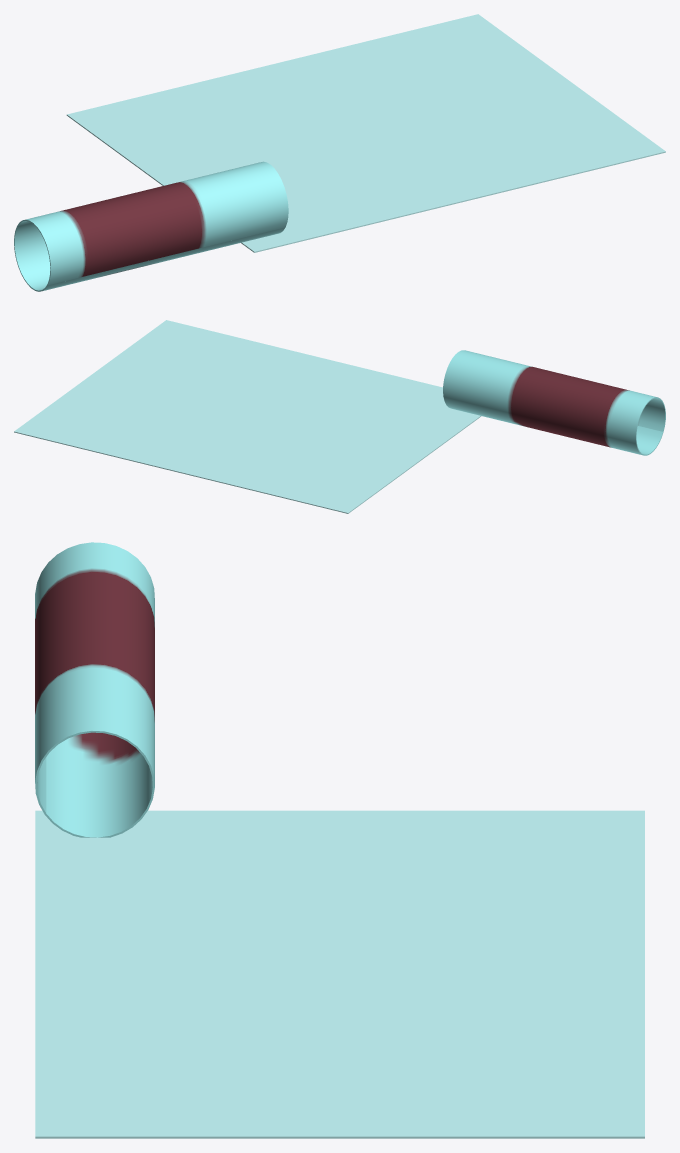
3 renders of one model, top to bottom at view 1: azimuth 30°, elevation 25°; view 2: azimuth 150°, elevation 25°; view 3: azimuth 270°, elevation 25°, orthographic. The views are drawn at different scales.
Parts seen in each view (by area): view 1: Blend, Blend1; view 2: Blend, Blend1; view 3: Blend, Blend1.
Boxes of the visible parts, bbox=[...] form: Blend: bbox=[66, 14, 665, 252]; Blend1: bbox=[14, 161, 288, 291]; Blend: bbox=[14, 320, 481, 513]; Blend1: bbox=[443, 350, 665, 455]; Blend: bbox=[35, 810, 644, 1138]; Blend1: bbox=[35, 542, 154, 837].
Size of what is drawn, in the model's own units: 570 by 59.26 by 301.
